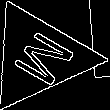M_SE: (1, 24, 77, 90)
